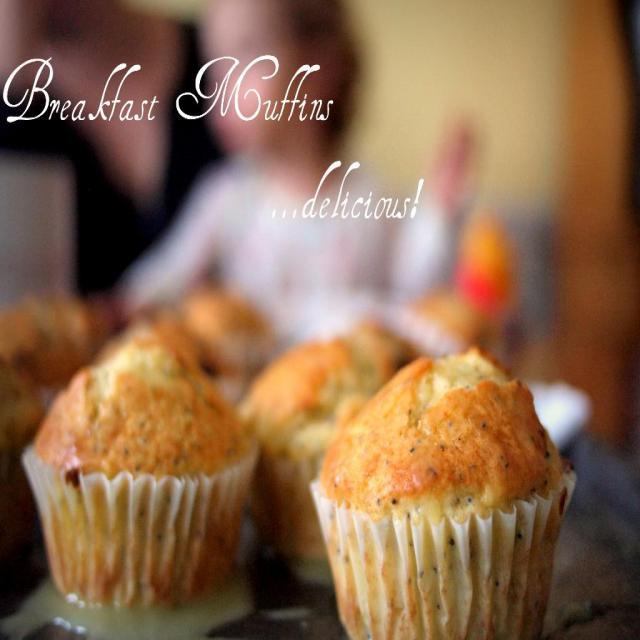Muffin: (0, 284, 575, 639)
